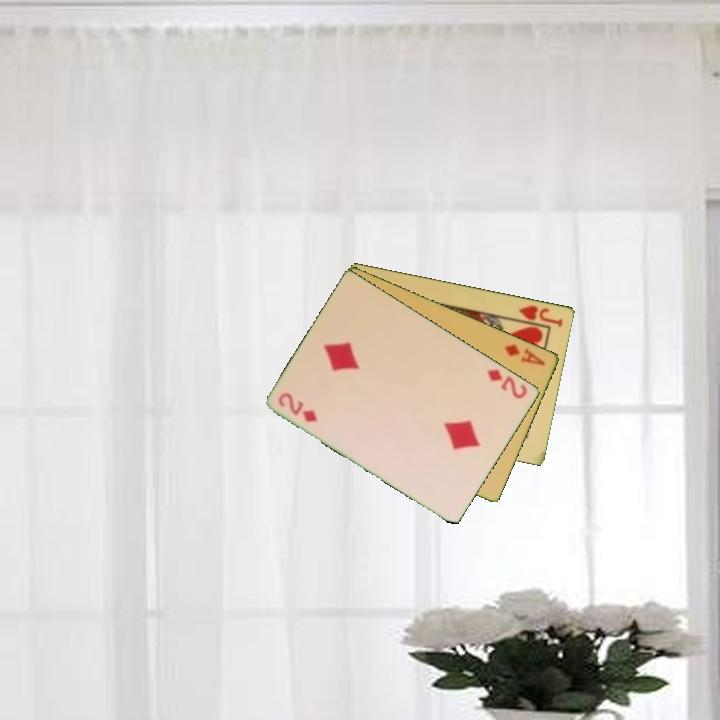2d: (484, 365, 531, 402), (275, 389, 320, 425)
Ad: (501, 340, 549, 369)
Jh: (515, 301, 566, 330)
